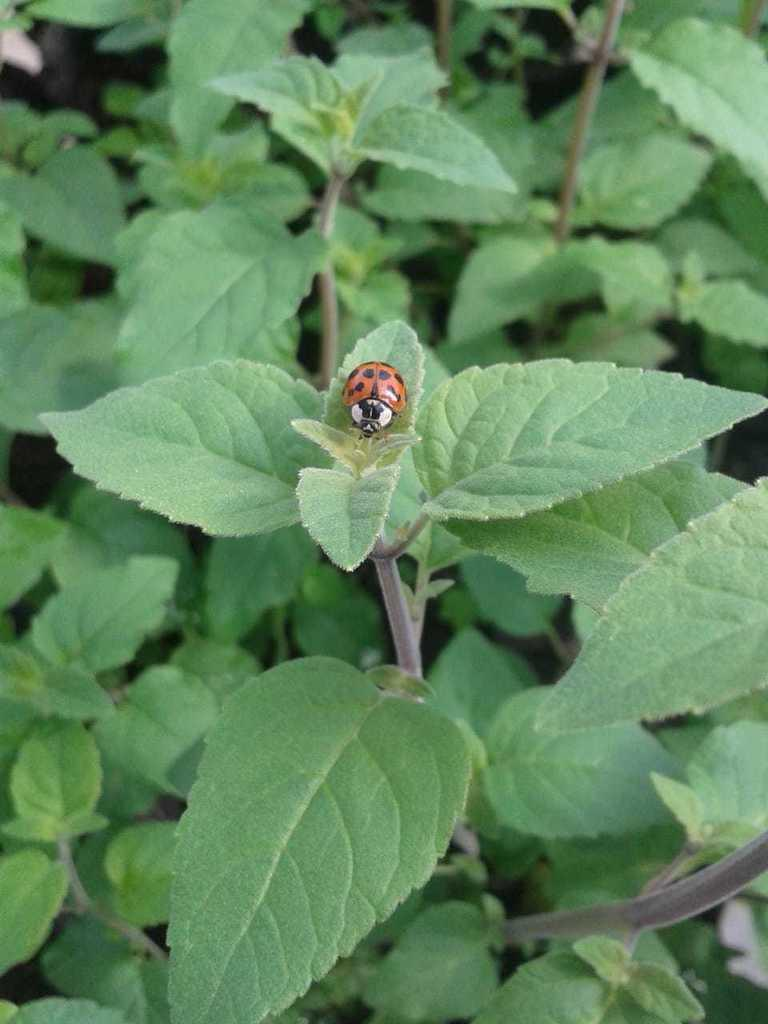ladybug: (336, 359, 416, 451)
